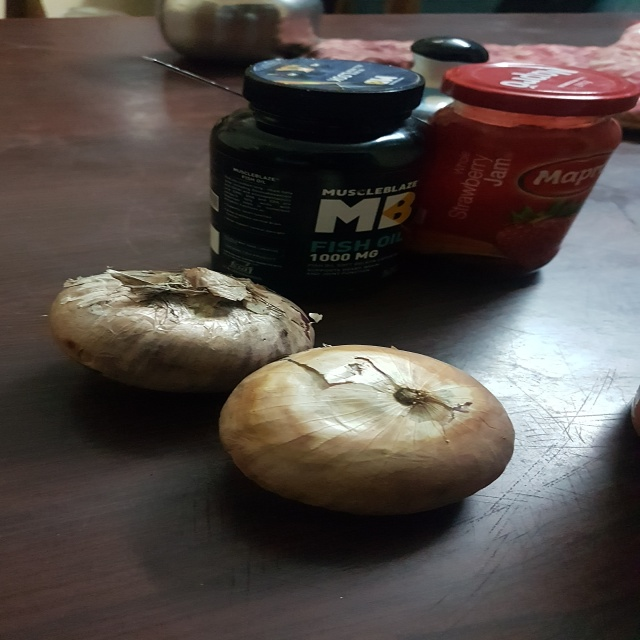onion: (207, 336, 524, 519), (42, 254, 321, 400)
